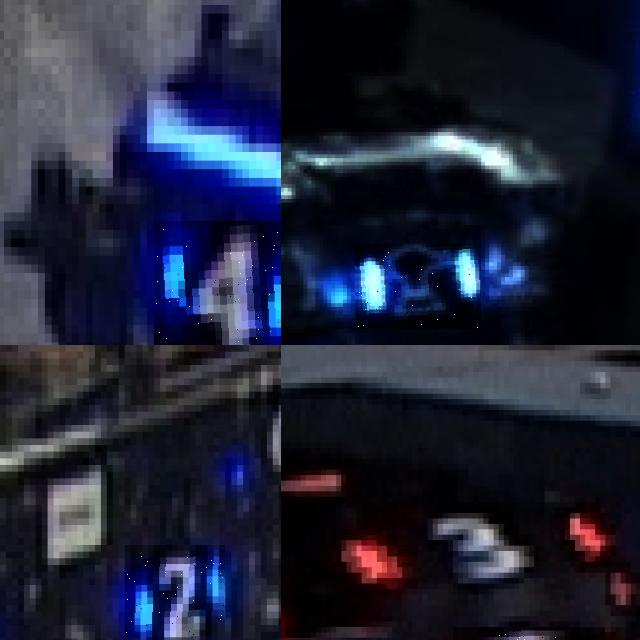B2: (124, 545, 225, 640)
B4: (153, 221, 281, 345)
Bs: (355, 244, 481, 329)
